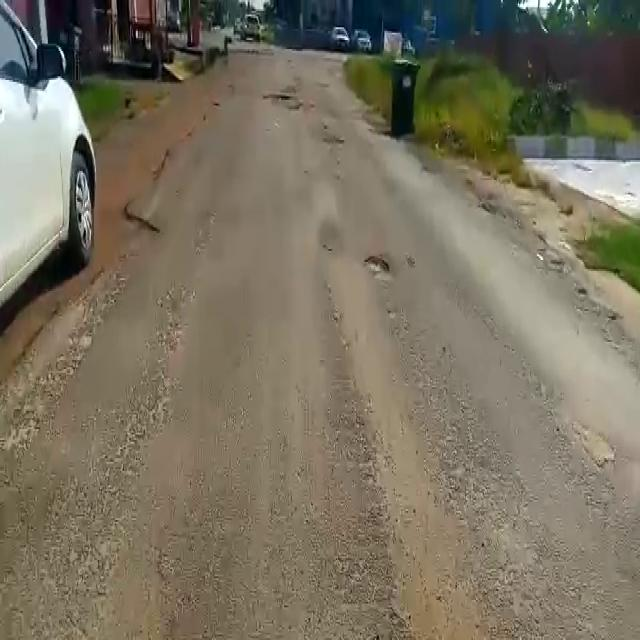Pothole: (362, 250, 399, 277)
